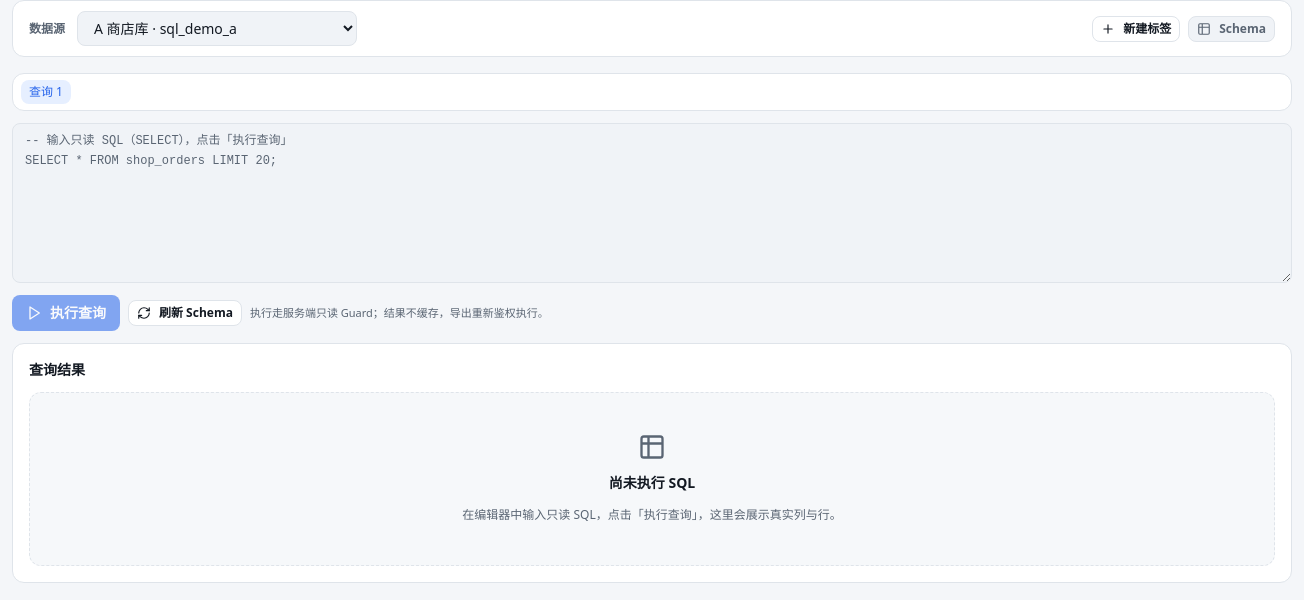
Test: SqlConsolePage 多标签 SQL 工作台 › Schema 侧栏展示表与列
Expected: the dropdown labelled "数据源" is shown, [77, 11, 357, 46]
Click the button "Schema" at (1232,28), box [1188, 16, 1275, 42]
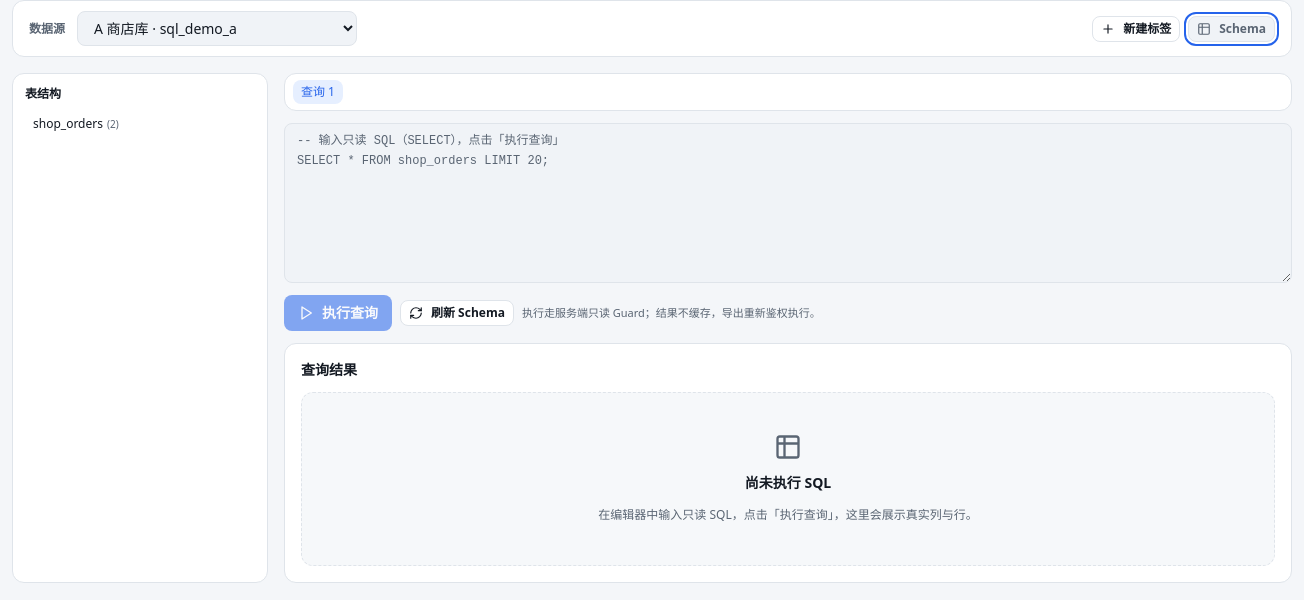
Now the button "shop_orders(2)" is shown, box [25, 112, 255, 136]
